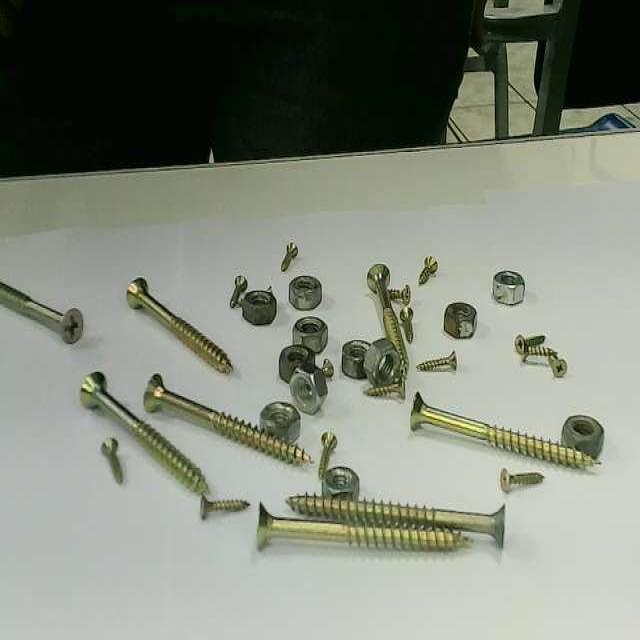Parafuso: (81, 373, 207, 492), (143, 373, 311, 461), (410, 392, 596, 467), (287, 493, 503, 547), (126, 277, 231, 371), (259, 503, 468, 549), (0, 283, 82, 341), (368, 264, 407, 377), (201, 497, 249, 519), (500, 468, 543, 492), (102, 437, 121, 483), (318, 432, 337, 477), (521, 344, 561, 362), (515, 334, 547, 356), (417, 351, 456, 369), (364, 383, 404, 397), (419, 256, 437, 284), (231, 276, 247, 307), (282, 241, 297, 271), (400, 307, 412, 341), (389, 284, 409, 303), (550, 355, 563, 377), (323, 359, 333, 377)
Porca: (291, 363, 327, 413), (563, 415, 604, 456), (364, 339, 399, 384), (260, 401, 299, 441), (279, 345, 314, 381), (293, 316, 327, 352), (444, 301, 476, 337), (242, 291, 276, 324), (323, 467, 358, 499), (289, 275, 321, 309), (493, 273, 524, 304), (342, 343, 369, 377)
